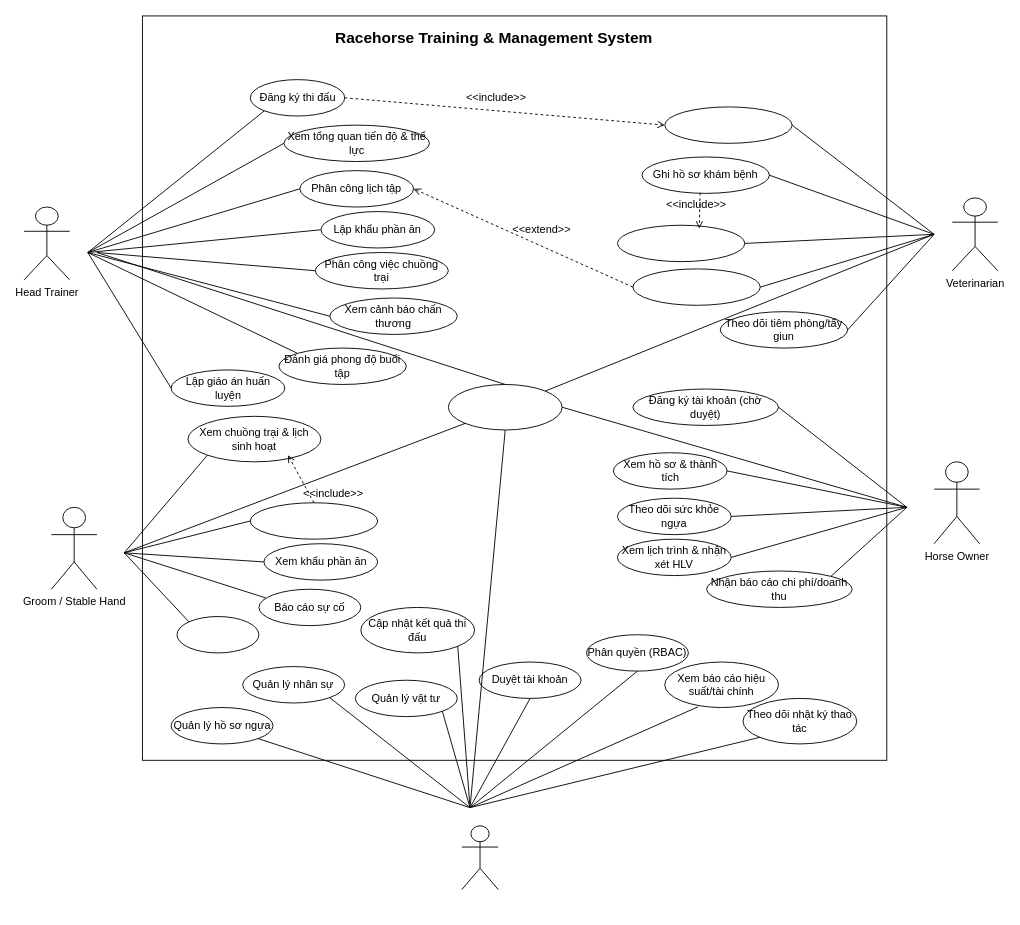
Some shapes in this 1020 by 925 pixel diagram are drawn without their labels. The shapes that lost their labels are listed below. From the top down, each one's centre as x and y in pixels, then its label:
At (x=728, y=124): "Xem trạng thái sức khỏe".
At (x=681, y=243): "Đánh dấu chấn thương".
At (x=696, y=286): "Khóa huấn luyện".
At (x=504, y=407): "Đăng nhập".
At (x=313, y=520): "Xác nhận hoàn thành việc".
At (x=217, y=634): "Theo dõi vật tư".
At (x=479, y=857): "Club Manager".
